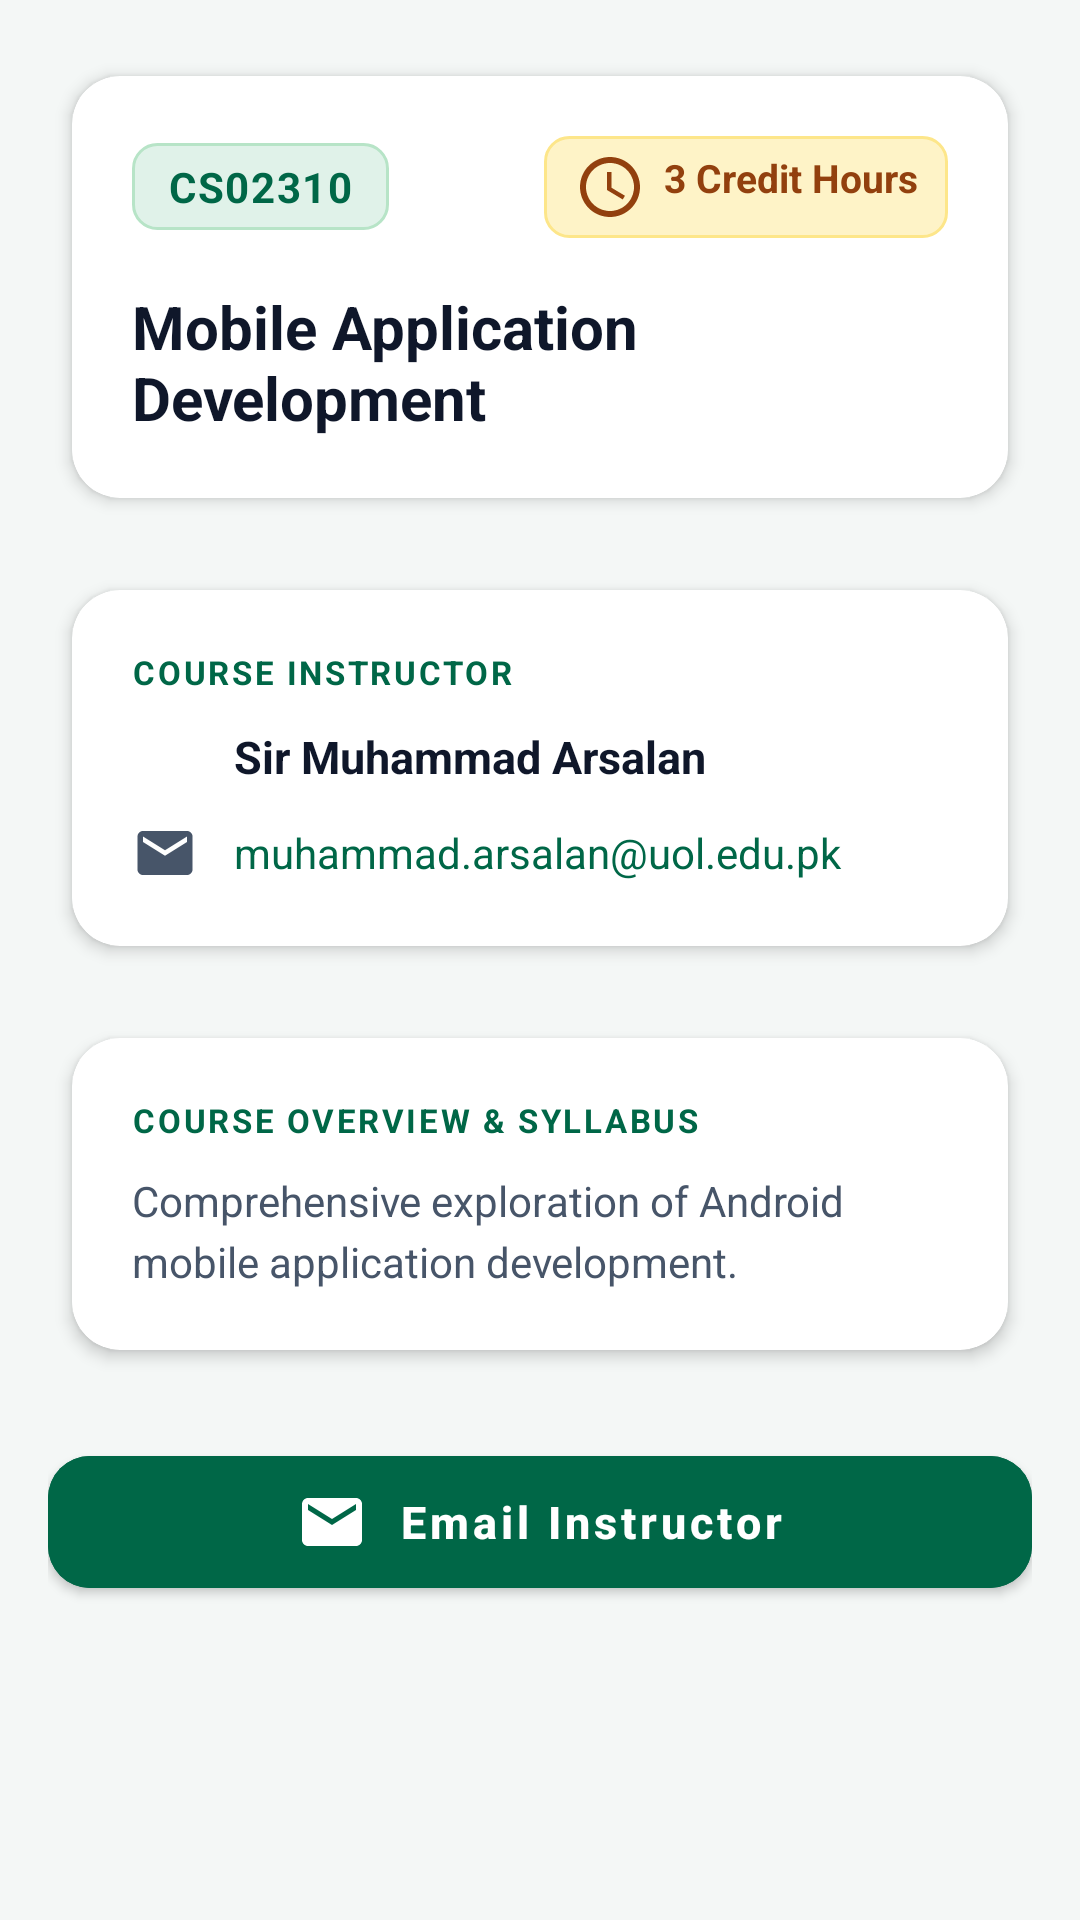

Named icons in this screenshot (1080*1920) and their bounding boxes, rect(x1, y1, x2, y2):
Email Icon: rect(137, 831, 193, 875)
